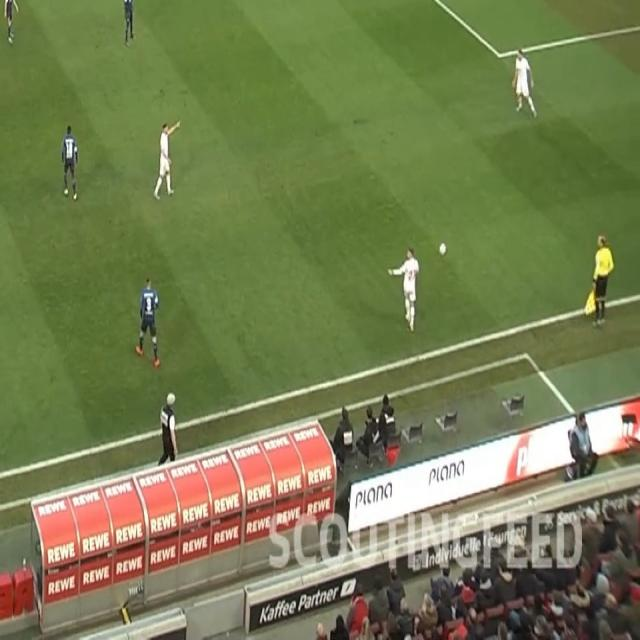ball: (438, 241, 447, 257)
